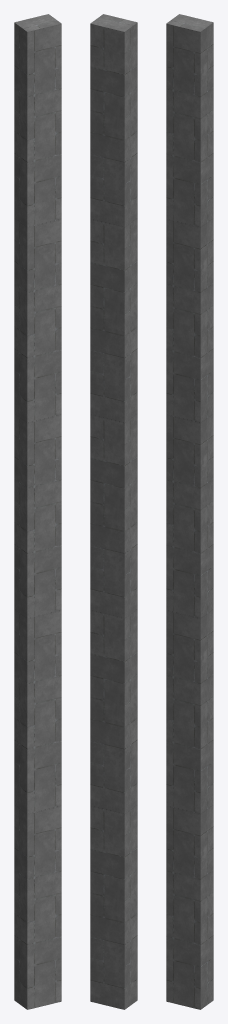
The model's file is bridge-test.glb.
3 views of the same model, side by side, from view 1: azimuth 30°, elevation 25°; view 2: azimuth 150°, elevation 25°; view 3: azimuth 330°, elevation 25° (orthographic).
Visible parts, largest first — view 1: bridge_supports_Baked; view 2: bridge_supports_Baked; view 3: bridge_supports_Baked.
Boxes of the visible parts, <box> form: bridge_supports_Baked: <box>14,14,61,1009</box>; bridge_supports_Baked: <box>90,14,137,1009</box>; bridge_supports_Baked: <box>166,14,213,1009</box>.
Bounding box in the file's own units: 0.2827 × 7.69 × 0.1874.
1 material, 1 textured.
